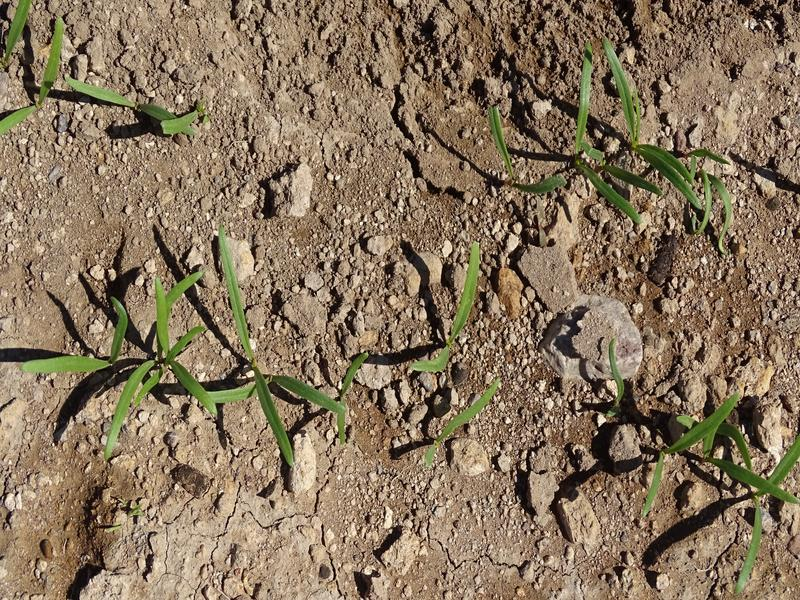Espinaca: (37, 256, 350, 458), (499, 40, 750, 244), (608, 377, 792, 561), (7, 4, 205, 138), (411, 239, 486, 378), (411, 378, 509, 467)
